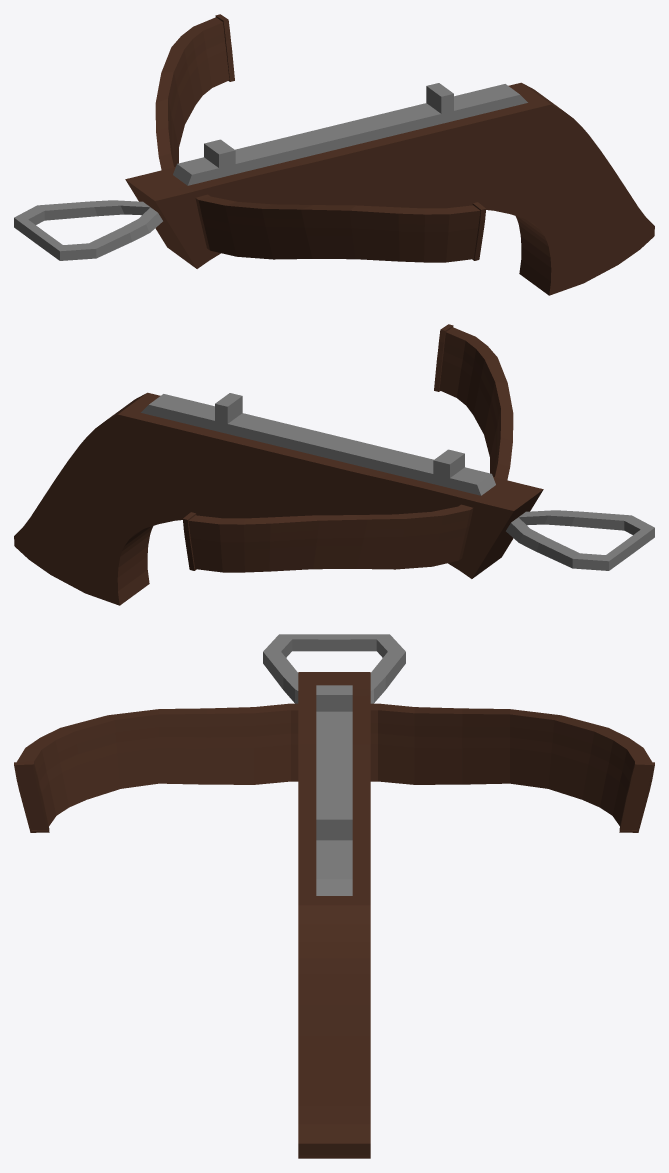
Rendered from ballesta.fbx.
3 renders of one model, top to bottom at view 1: azimuth 30°, elevation 25°; view 2: azimuth 150°, elevation 25°; view 3: azimuth 270°, elevation 25°, orthographic. The views are drawn at different scales.
Visible parts, largest first — view 1: ballesta; view 2: ballesta; view 3: ballesta.
Boxes of the visible parts, <box> form: ballesta: <box>14,14,654,295</box>; ballesta: <box>14,324,654,605</box>; ballesta: <box>14,634,654,1158</box>.
Bounding box in the file's own units: 133 × 46.11 × 102.
